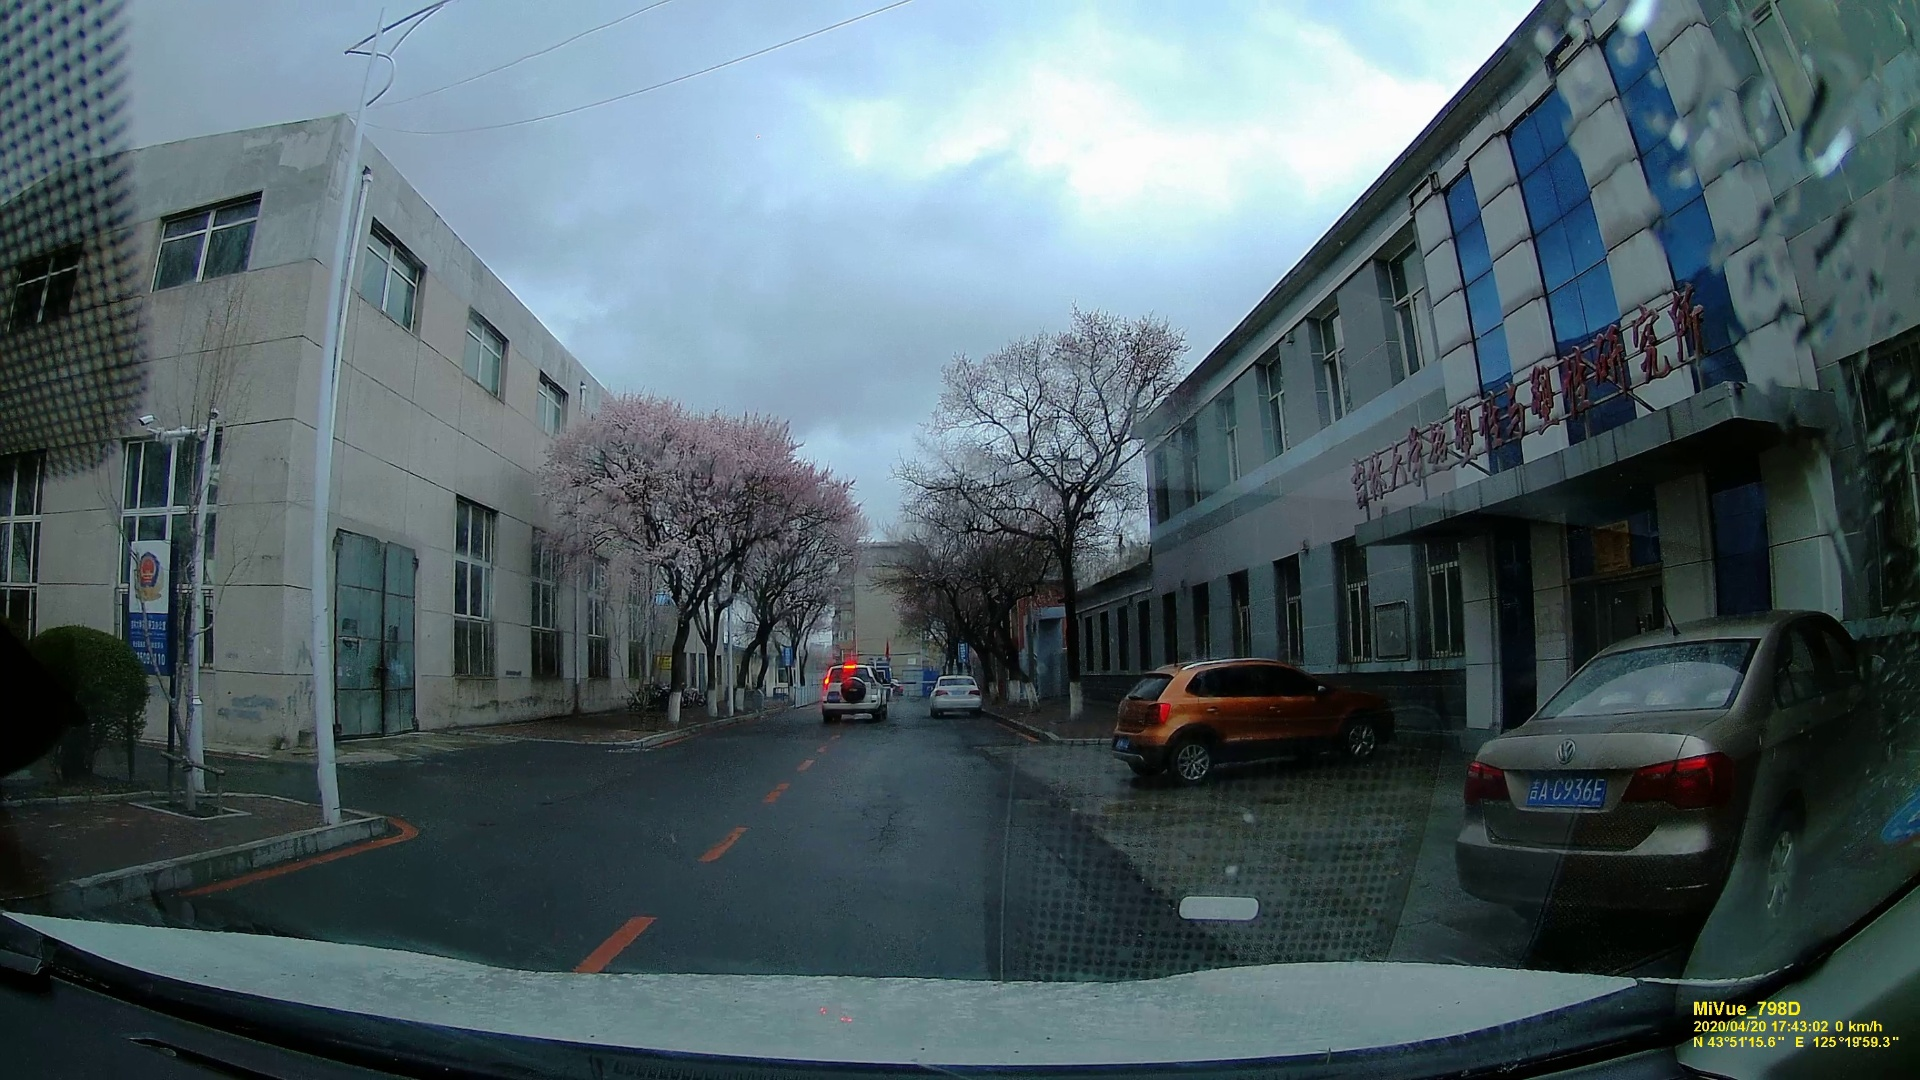traffic_sign: (123, 541, 173, 657)
vehicle: (1470, 616, 1905, 915), (1104, 650, 1415, 786), (822, 663, 887, 725), (930, 675, 981, 717)
